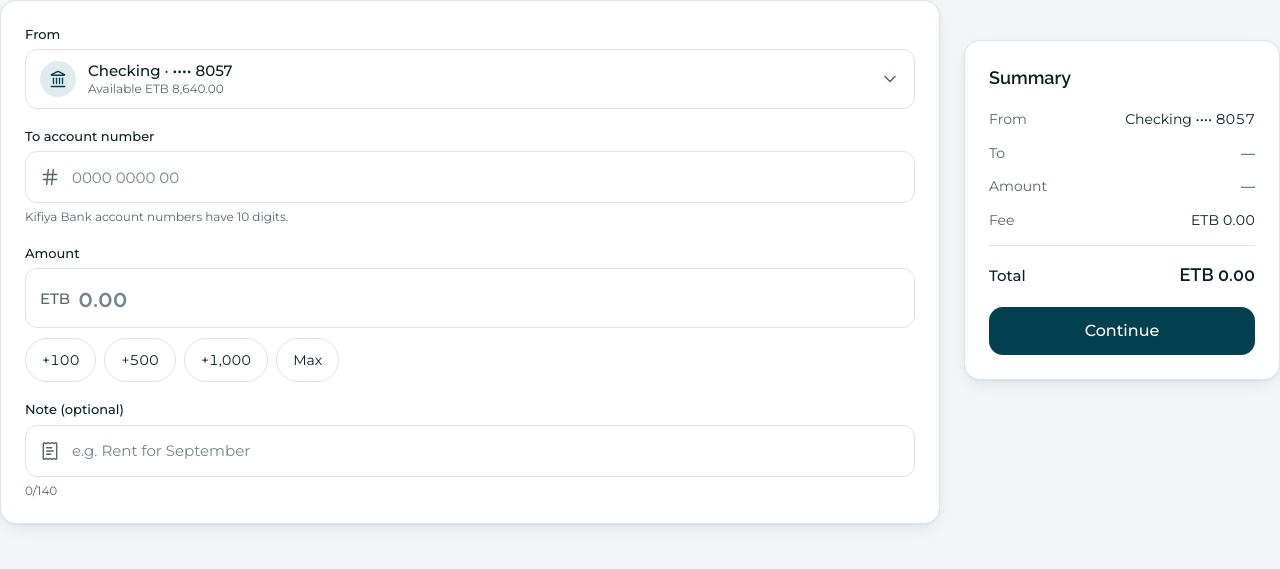
Test case: TransferForm › says Insufficient funds as soon as the amount is too high
Type "9000" into the field named "Amount in ETB".
click(489, 298); type("9000")  # box [78, 282, 900, 315]
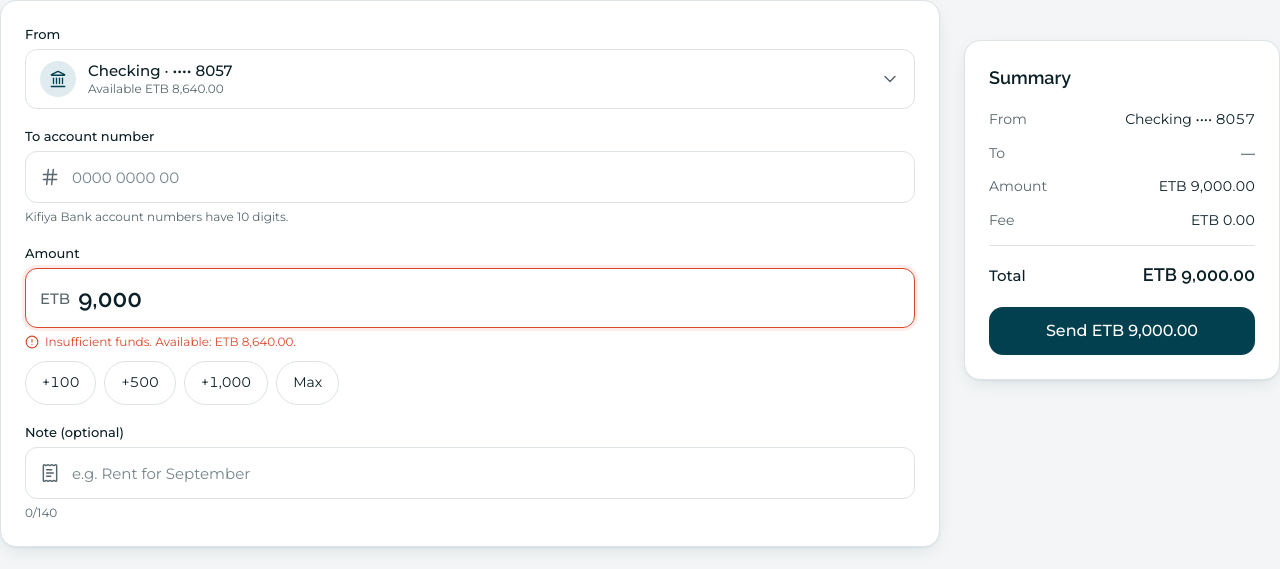
expect the text "Insufficient funds. Available: ETB 8,640.00." is shown: met, box [25, 334, 296, 349]
